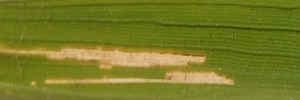RiceBacterialBlight: (1, 40, 240, 93)
